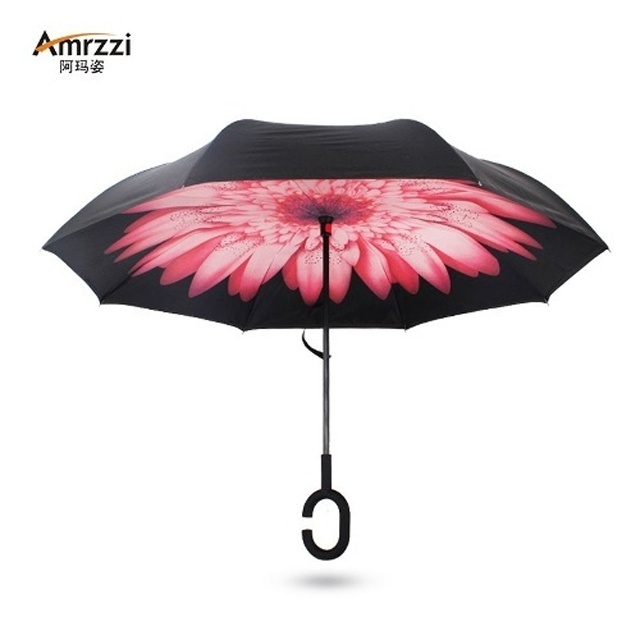umbrella: (37, 115, 618, 566)
